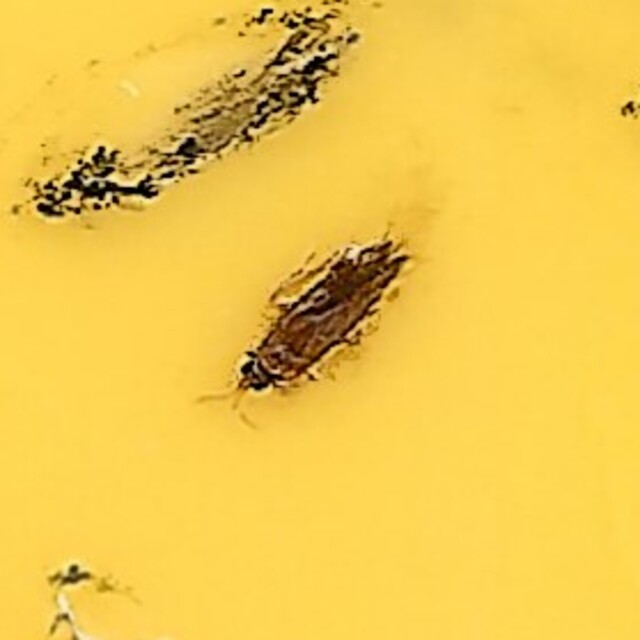Trichoptera: (229, 225, 411, 415)
